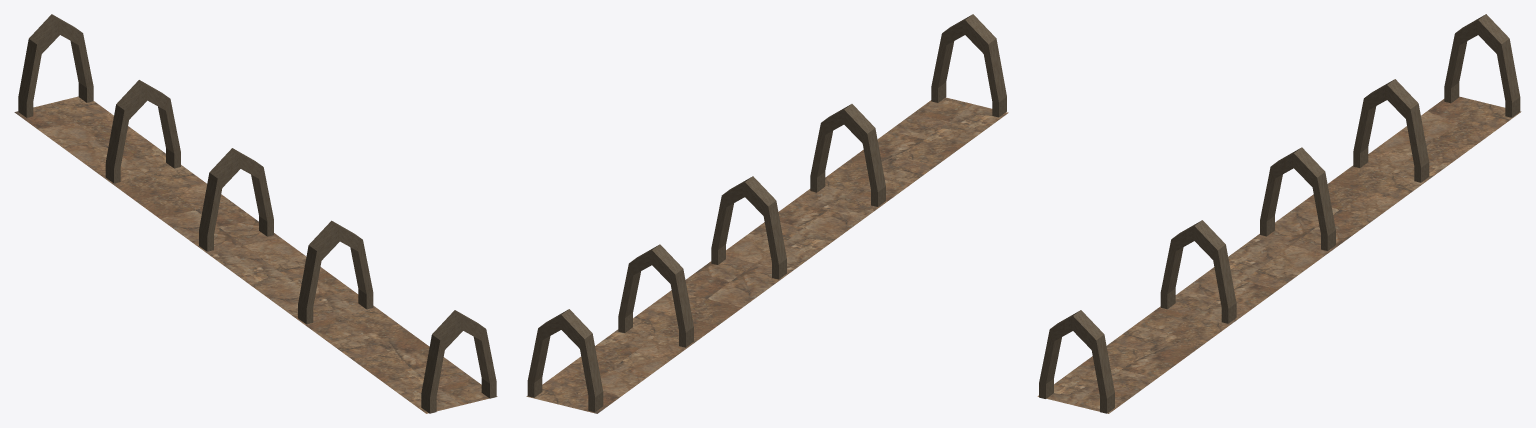
Rendered from CuevaEncantada.glb.
3 renders of one model, left to right at view 1: azimuth 30°, elevation 25°; view 2: azimuth 150°, elevation 25°; view 3: azimuth 330°, elevation 25°, orthographic.
Parts seen in each view (by area): view 1: Floor, Bow; view 2: Floor, Bow; view 3: Floor, Bow.
Boxes of the visible parts, x1,y1,x2,y2 form: Floor: (14,96,497,413); Bow: (18,14,496,413); Floor: (526,97,1008,413); Bow: (527,14,1006,412); Floor: (1037,96,1521,413); Bow: (1039,14,1520,413).
Bounding box in the file's own units: 10 × 12.01 × 100.
2 materials, 2 textured.
